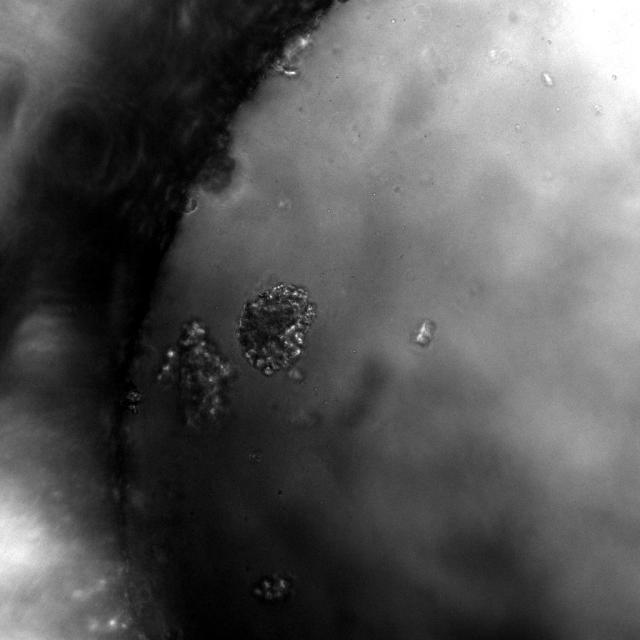organoid: (158, 317, 233, 430), (237, 282, 316, 375), (252, 573, 294, 604), (414, 321, 436, 346)
